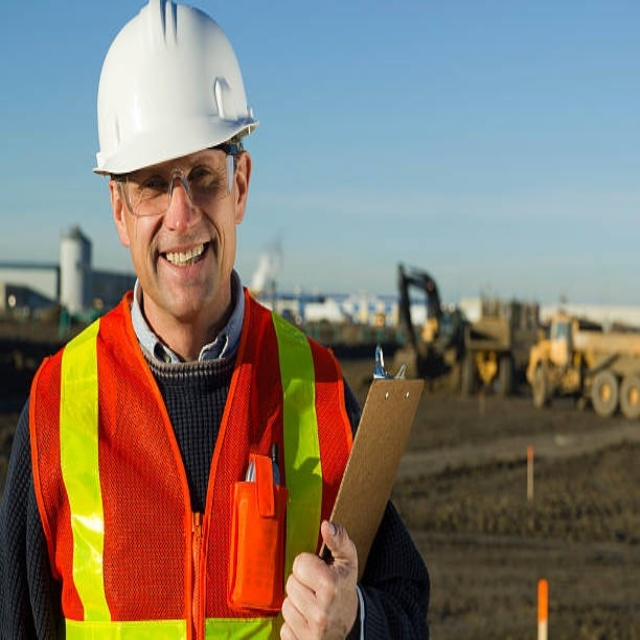Gafas: (118, 140, 244, 218)
Sin_guantes: (283, 515, 360, 640)
Sin_mascara: (146, 231, 220, 298)
